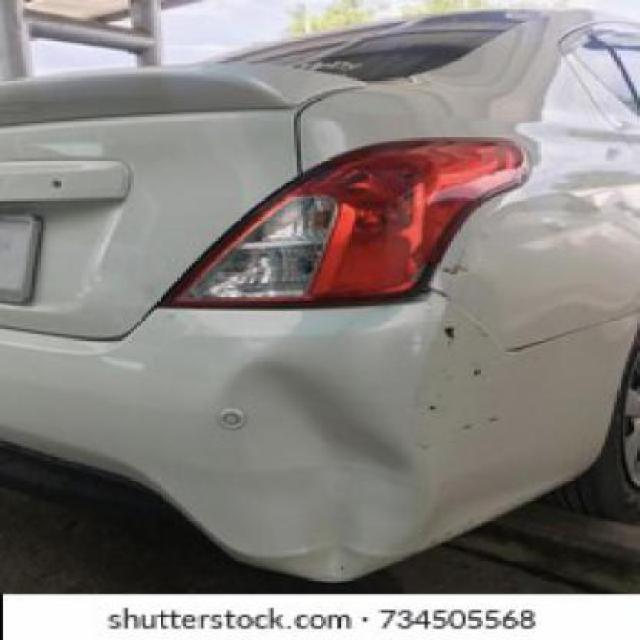rear-bumper-dent: (191, 306, 433, 574)
